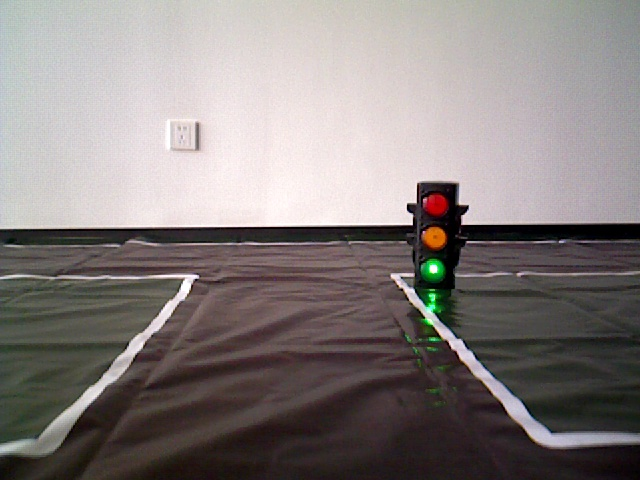green: (417, 187, 452, 278)
